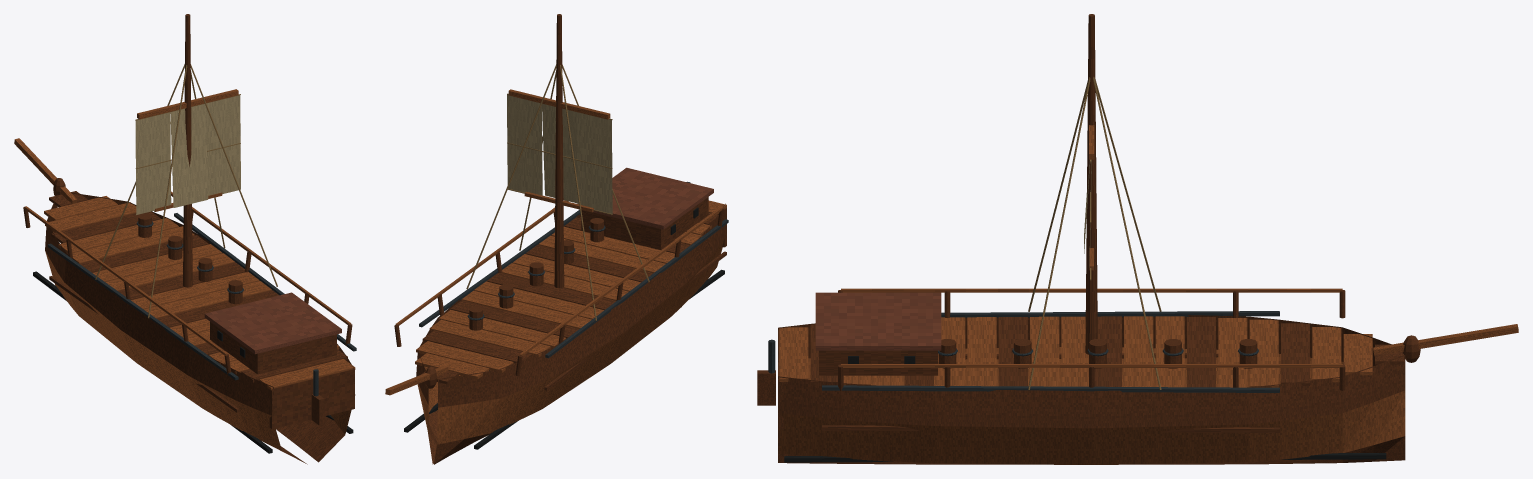
Rendered from KIT_ship_merchant_sloop.gltf.
3 renders of one model, left to right at view 1: azimuth 30°, elevation 25°; view 2: azimuth 150°, elevation 25°; view 3: azimuth 270°, elevation 25°, orthographic. The views are drawn at different scales.
Parts seen in each view (by area): view 1: hull, sail_01, rudder; view 2: hull, sail_01; view 3: hull, rudder.
Part boxes in pixels (x1=…): hull: x1=14, y1=14, x2=356, y2=464; sail_01: x1=135, y1=94, x2=240, y2=215; rudder: x1=311, y1=369, x2=324, y2=425; hull: x1=385, y1=14, x2=728, y2=464; sail_01: x1=507, y1=93, x2=612, y2=214; hull: x1=778, y1=14, x2=1518, y2=464; rudder: x1=757, y1=339, x2=775, y2=405.
Size of the model in its own units: 3.7 by 9.39 by 14.57.
7 materials, 7 textured.
